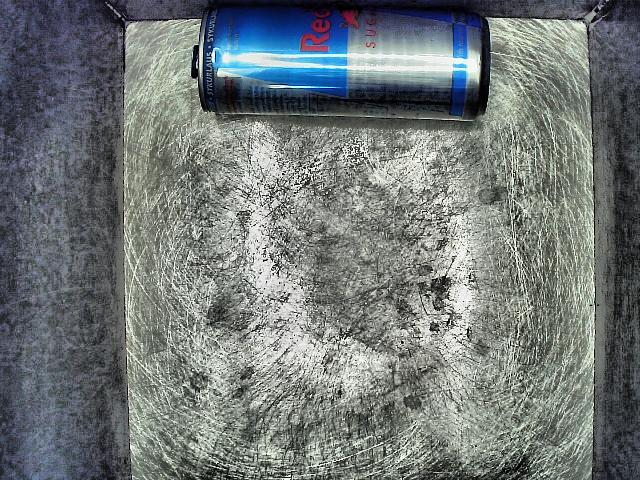Bottles: (182, 0, 563, 193)
